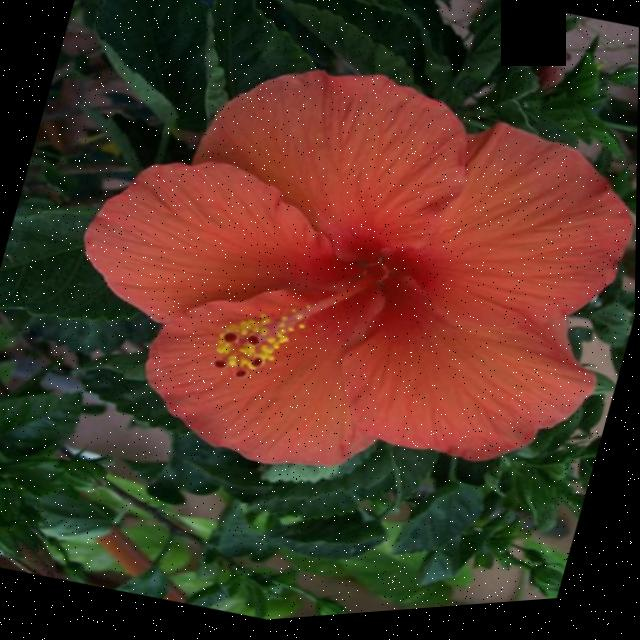hibiscus: (0, 0, 640, 586)
